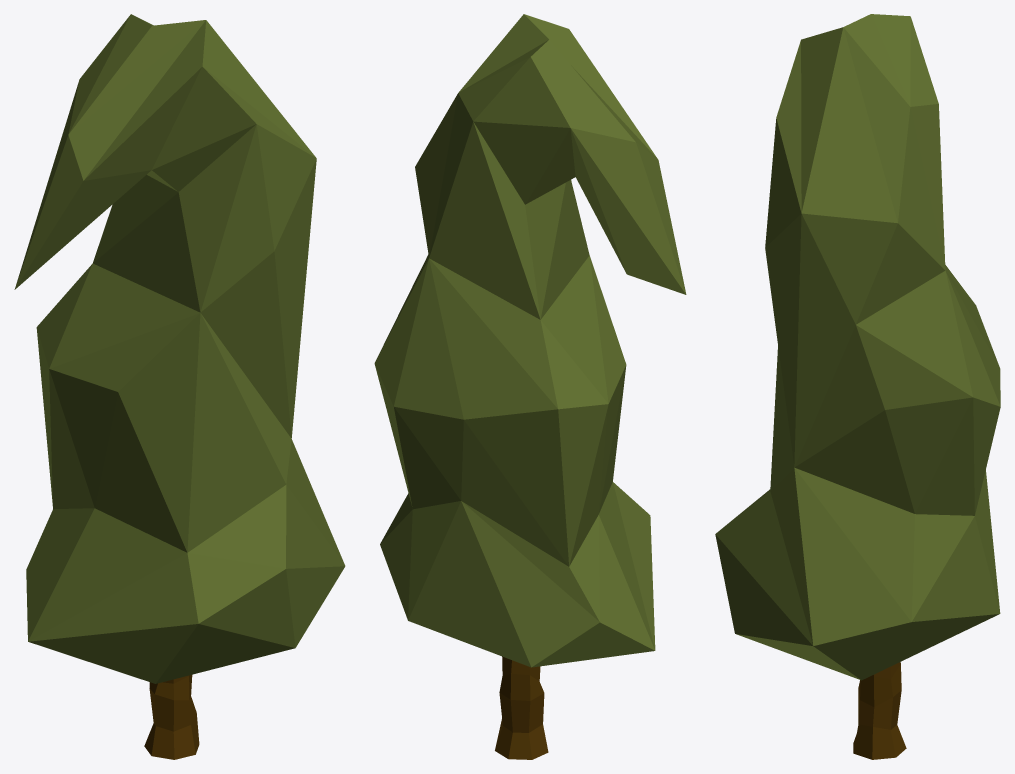
The model's file is Tree.fbx.
3 renders of one model, left to right at view 1: azimuth 30°, elevation 25°; view 2: azimuth 150°, elevation 25°; view 3: azimuth 270°, elevation 25°, orthographic. The views are drawn at different scales.
Visible parts, largest first — view 1: Tree; view 2: Tree; view 3: Tree.
Part boxes in pixels (x1,y1,x2,y2): Tree: (14, 14, 345, 759); Tree: (374, 14, 686, 759); Tree: (715, 14, 1000, 759).
Bounding box in the file's own units: 0.8977 × 2.08 × 0.7397.
